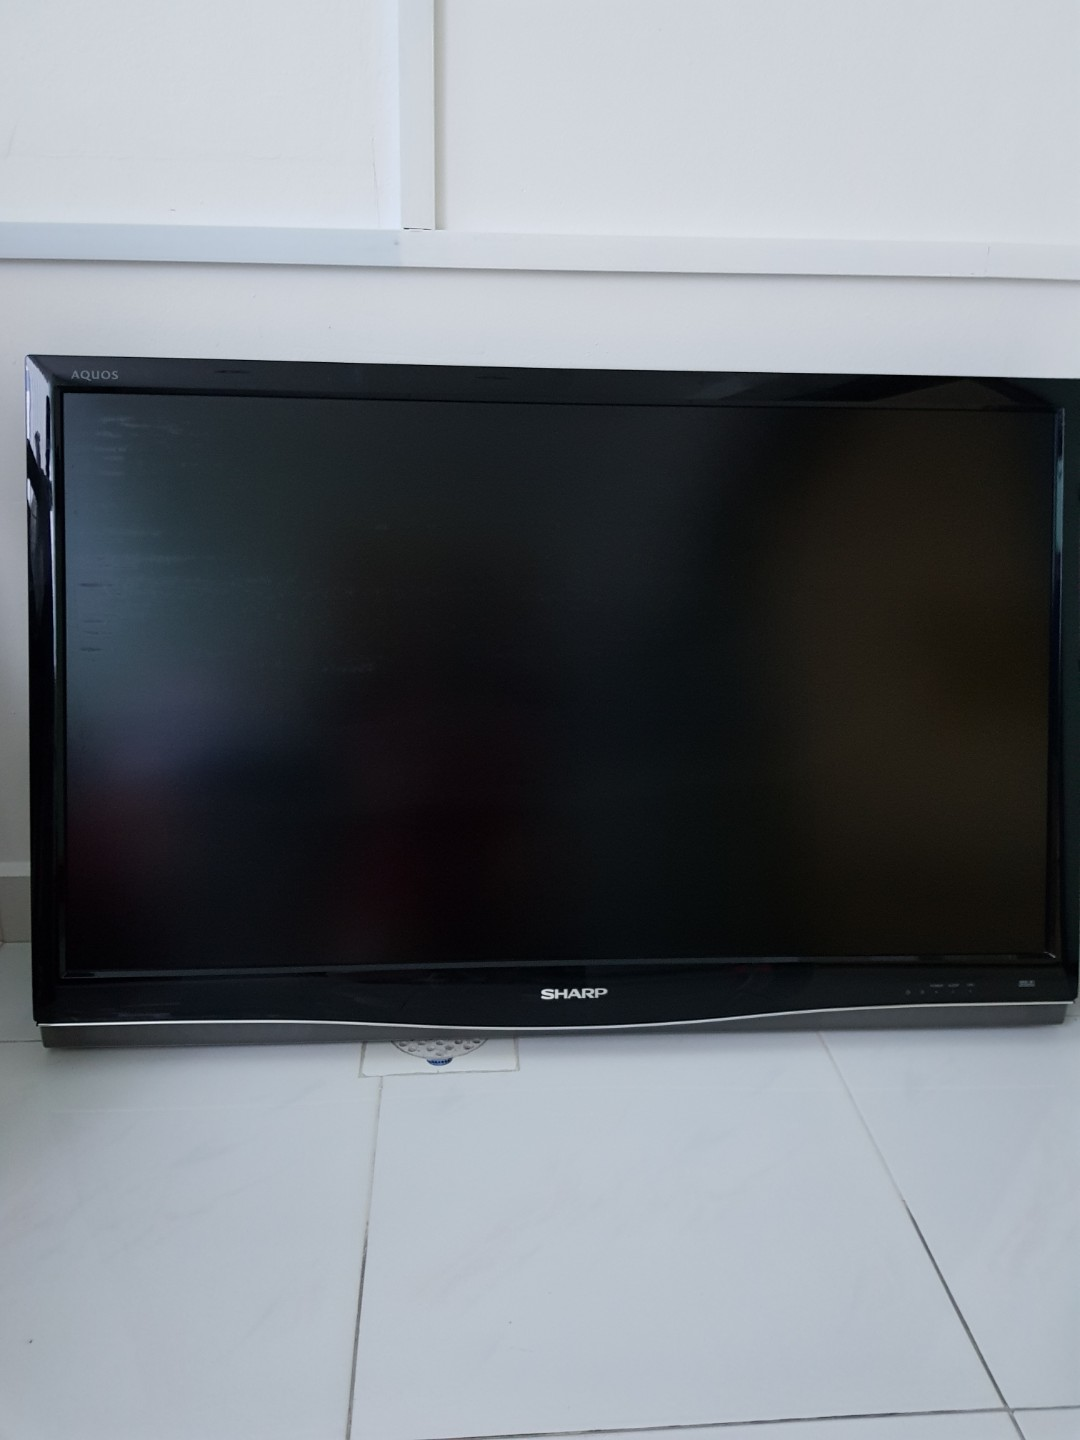tv: (16, 341, 1080, 1045)
